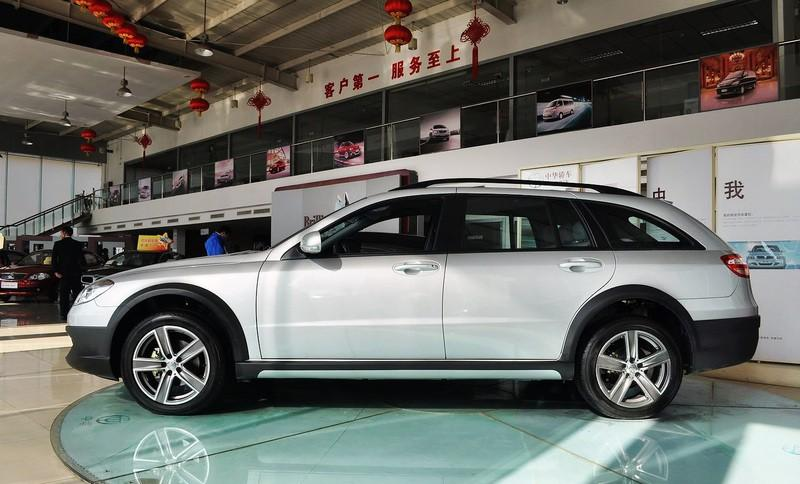Wagon: (63, 177, 762, 421)
